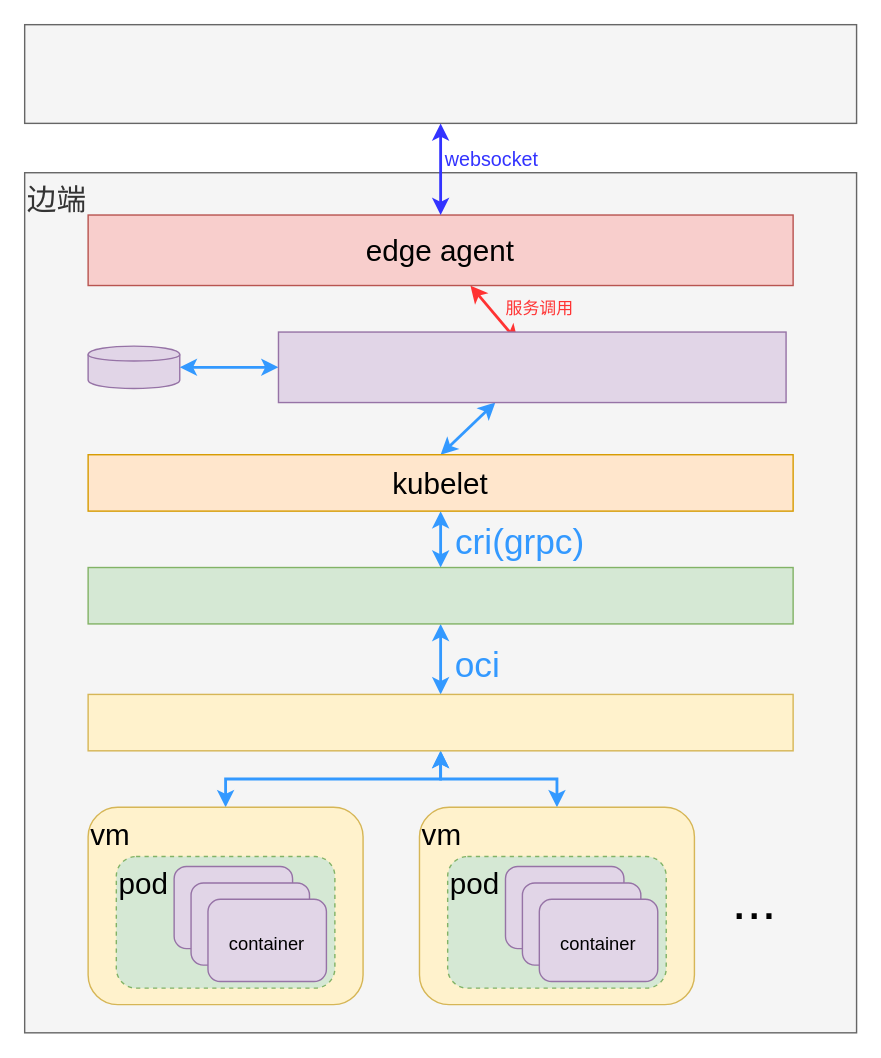
Some shapes in this 881 by 1058 pixel diagram are drawn without their labels. Here are the shapes that lost their labels. From the top down, the centre of each, then its label:
At point (440, 73): "云端".
At point (133, 366): "etcd".
At point (531, 367): "kube-apiserver".
At point (440, 595): "cri-o(with devicemapper)".
At point (440, 722): "kata-runtime".
